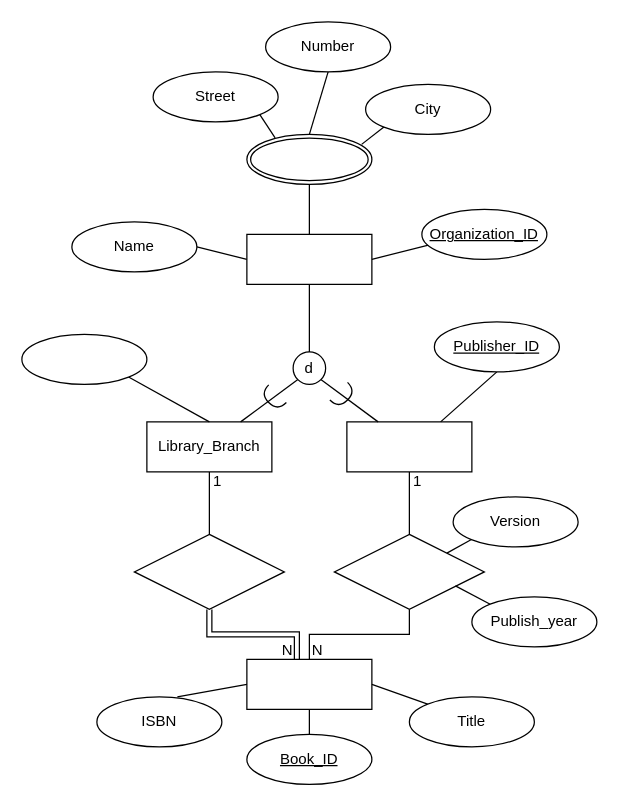
Image size: 619x806. Some labels were removed from this diagram. The shapes that lost their labels are listed below. From the top down, each one's centre as x and y in pixels, then its label:
At point (309, 158): "Address".
At point (309, 258): "Organization".
At point (84, 358): "Branch_ID".
At point (409, 446): "Publisher".
At point (208, 571): "store".
At point (408, 571): "publish".
At point (309, 683): "Book".
